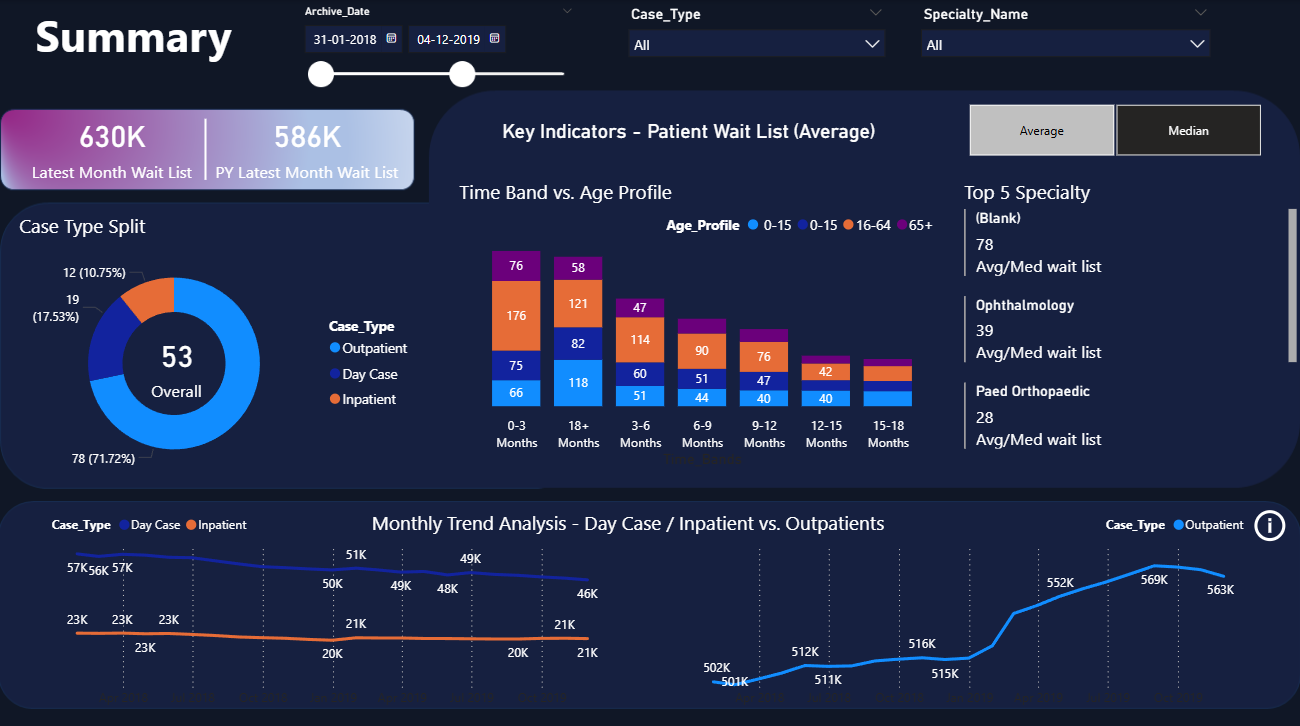

This screenshot's page, from the dashboard's own definition file:
{"tool":"powerbi","page":{"name":"Summary","canvas":[1280,720],"ordinal":0},"visuals":[{"type":"card","fields":{"Values":["All_Data.Latest Month Wait List"]},"box":[0,80,224,128],"z":0},{"type":"card","fields":{"Values":["All_Data.PY Latest Month Wait List"]},"box":[192,80,224,128],"z":1000},{"type":"slicer","fields":{"Values":["Calculation Method.calc method"]},"box":[928,96,336,64],"z":2000},{"type":"donutChart","title":"Case Type Split","fields":{"Category":["All_Data.Case_Type"],"Y":["All_Data.Avg/Med wait list"]},"box":[16,208,400,272],"z":3000},{"type":"columnChart","title":"Time Band vs. Age Profile","fields":{"Category":["All_Data.Time_Bands"],"Y":["All_Data.Avg/Med wait list"],"Series":["All_Data.Age_Profile"]},"box":[448,176,480,288],"z":4000},{"type":"multiRowCard","title":"Top 5 Specialty","fields":{"Values":["All_Data.Specialty_Name","All_Data.Avg/Med wait list"]},"box":[944,176,336,288],"z":5000},{"type":"card","fields":{"Values":["All_Data.NoDataLeft"]},"box":[152.1,553.4,413.5,106.7],"z":6000},{"type":"lineChart","fields":{"Category":["All_Data.Archive_Date"],"Y":["Sum(All_Data.Total)"],"Series":["All_Data.Case_Type"]},"box":[48,496,560,208],"z":7000},{"type":"card","fields":{"Values":["All_Data.NoDataRight"]},"box":[759.5,553.4,413.5,106.7],"z":8000},{"type":"lineChart","fields":{"Category":["All_Data.Archive_Date"],"Y":["Sum(All_Data.Total)"],"Series":["All_Data.Case_Type"]},"box":[672,496,560,208],"z":9000},{"type":"slicer","fields":{"Values":["All_Data.Archive_Date"]},"box":[288,0,288,112],"z":10000},{"type":"slicer","fields":{"Values":["All_Data.Case_Type"]},"box":[608,0,272,80],"z":11000},{"type":"slicer","fields":{"Values":["All_Data.Specialty_Name"]},"box":[896,0,304,80],"z":12000},{"type":"textbox","box":[32,0,288,96],"z":13000},{"type":"card","fields":{"Values":["All_Data.Avg/Med wait list"]},"box":[103.1,311.7,144.8,95.7],"z":14000},{"type":"shape","box":[152.1,116.6,103.1,60.1],"z":15000},{"type":"textbox","box":[362,495.7,533.7,40.5],"z":16000},{"type":"card","fields":{"Values":["All_Data.Dynamic Title"]},"box":[460.1,81,435.6,95.7],"z":17000},{"type":"actionButton","box":[1228.2,495.7,51.5,40.5],"z":18000}]}

Visuals, with their boxes in screenshot pixels (x1, y1, x2, y2), scaled from the page's 1280x720 canvas onto the 1300x726 screenshot:
card - All_Data.Latest Month Wait List: {"x1": 0, "y1": 81, "x2": 228, "y2": 210}
card - All_Data.PY Latest Month Wait List: {"x1": 195, "y1": 81, "x2": 422, "y2": 210}
slicer - Calculation Method.calc method: {"x1": 942, "y1": 97, "x2": 1284, "y2": 161}
"Case Type Split" donutChart: {"x1": 16, "y1": 210, "x2": 422, "y2": 484}
"Time Band vs. Age Profile" columnChart: {"x1": 455, "y1": 177, "x2": 942, "y2": 468}
"Top 5 Specialty" multiRowCard: {"x1": 959, "y1": 177, "x2": 1299, "y2": 468}
card - All_Data.NoDataLeft: {"x1": 154, "y1": 558, "x2": 574, "y2": 666}
lineChart - All_Data.Archive_Date x Sum(All_Data.Total): {"x1": 49, "y1": 500, "x2": 618, "y2": 710}
card - All_Data.NoDataRight: {"x1": 771, "y1": 558, "x2": 1191, "y2": 666}
lineChart - All_Data.Archive_Date x Sum(All_Data.Total): {"x1": 682, "y1": 500, "x2": 1251, "y2": 710}
slicer - All_Data.Archive_Date: {"x1": 292, "y1": 0, "x2": 585, "y2": 113}
slicer - All_Data.Case_Type: {"x1": 618, "y1": 0, "x2": 894, "y2": 81}
slicer - All_Data.Specialty_Name: {"x1": 910, "y1": 0, "x2": 1219, "y2": 81}
textbox: {"x1": 32, "y1": 0, "x2": 325, "y2": 97}
card - All_Data.Avg/Med wait list: {"x1": 105, "y1": 314, "x2": 252, "y2": 411}
shape: {"x1": 154, "y1": 118, "x2": 259, "y2": 178}
textbox: {"x1": 368, "y1": 500, "x2": 910, "y2": 541}
card - All_Data.Dynamic Title: {"x1": 467, "y1": 82, "x2": 910, "y2": 178}
actionButton: {"x1": 1247, "y1": 500, "x2": 1299, "y2": 541}
